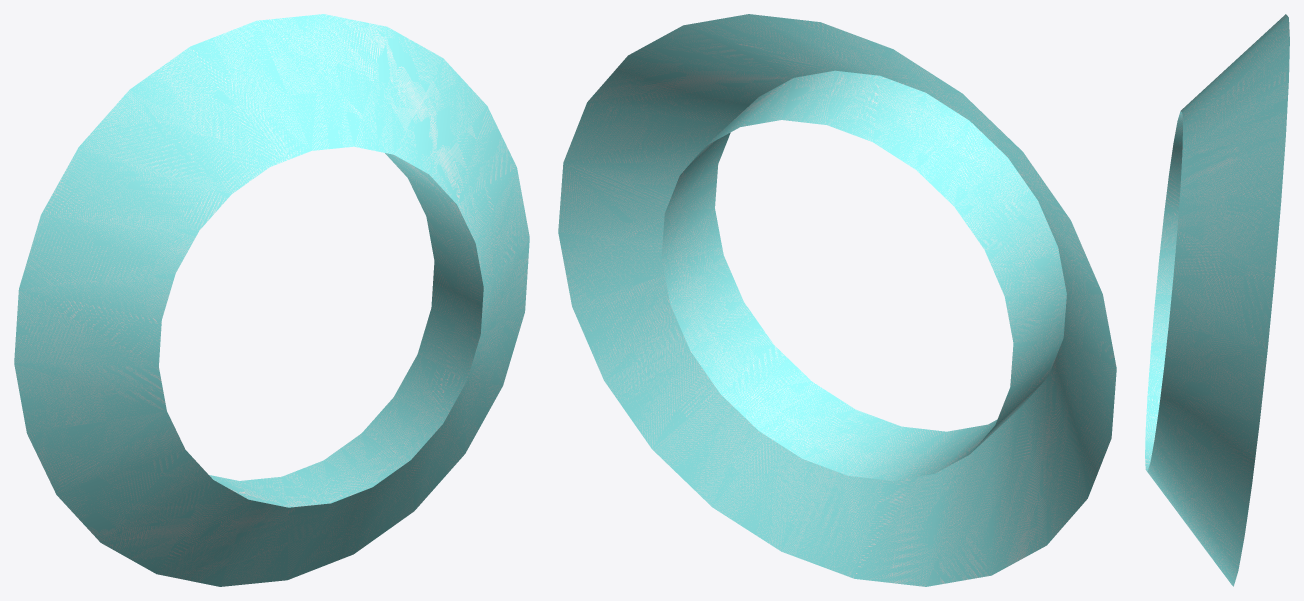
The model's file is original-15.obj.
3 views of the same model, side by side, from view 1: azimuth 30°, elevation 25°; view 2: azimuth 150°, elevation 25°; view 3: azimuth 270°, elevation 25° (orthographic). The views are drawn at different scales.
Parts seen in each view (by area): view 1: 3dw.eb6176d02ba79f0640010f30b5cd77ee/Model/mesh1/mesh1-geometry/; view 2: 3dw.eb6176d02ba79f0640010f30b5cd77ee/Model/mesh1/mesh1-geometry/; view 3: 3dw.eb6176d02ba79f0640010f30b5cd77ee/Model/mesh1/mesh1-geometry/.
Part boxes in pixels (x1,y1,x2,y2): 3dw.eb6176d02ba79f0640010f30b5cd77ee/Model/mesh1/mesh1-geometry/: (14, 14, 529, 586); 3dw.eb6176d02ba79f0640010f30b5cd77ee/Model/mesh1/mesh1-geometry/: (558, 14, 1116, 586); 3dw.eb6176d02ba79f0640010f30b5cd77ee/Model/mesh1/mesh1-geometry/: (1145, 14, 1289, 586).
Size of the model in its own units: 0.019 by 0.0189 by 0.00478.
